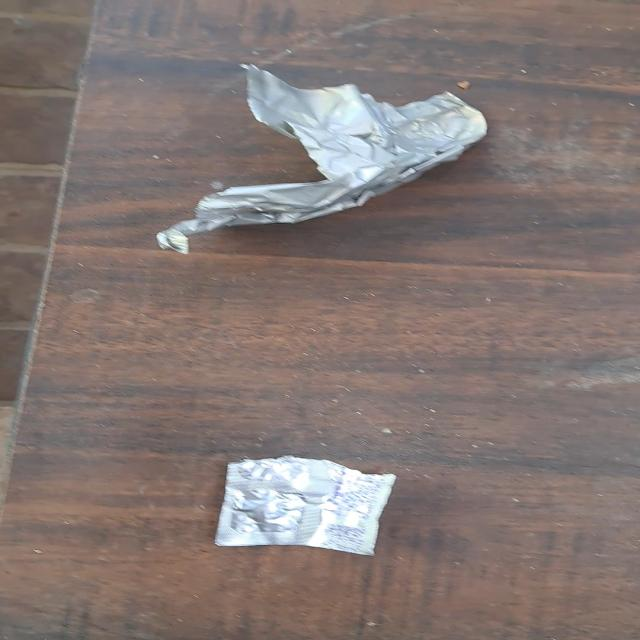Anorganik: (160, 62, 490, 251), (208, 452, 395, 554)
